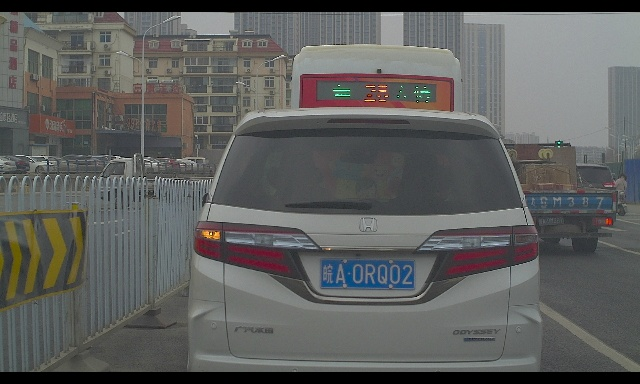bicycle: (606, 172, 629, 216)
bus: (289, 44, 464, 274)
car: (187, 107, 543, 372), (565, 163, 618, 226), (6, 155, 56, 175), (61, 154, 99, 174), (129, 157, 171, 175), (36, 156, 77, 174), (129, 159, 170, 174), (0, 155, 30, 174), (87, 154, 120, 171), (180, 157, 211, 175), (149, 157, 180, 174), (167, 159, 198, 175), (25, 156, 53, 169), (0, 156, 17, 173)
truck: (497, 143, 618, 255), (94, 153, 228, 209)
